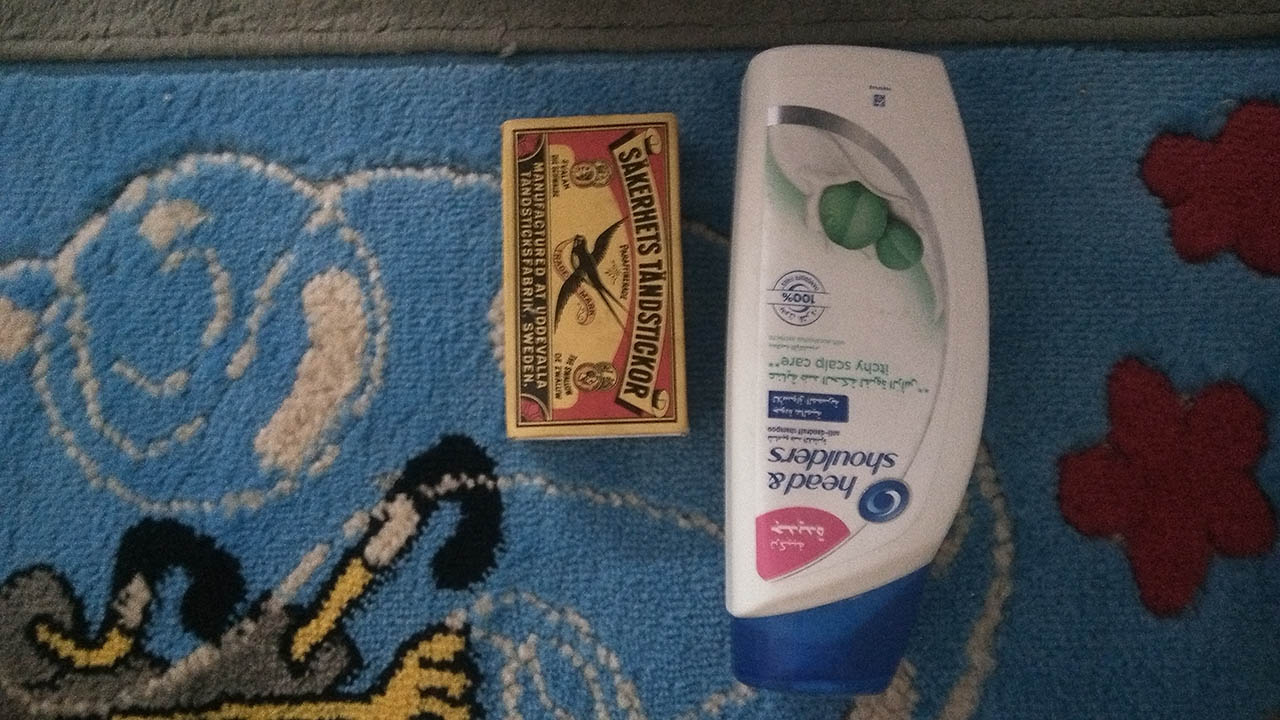match-sticks .90$: (485, 110, 695, 459)
shampoo-green 4.5$: (705, 43, 1013, 693)
